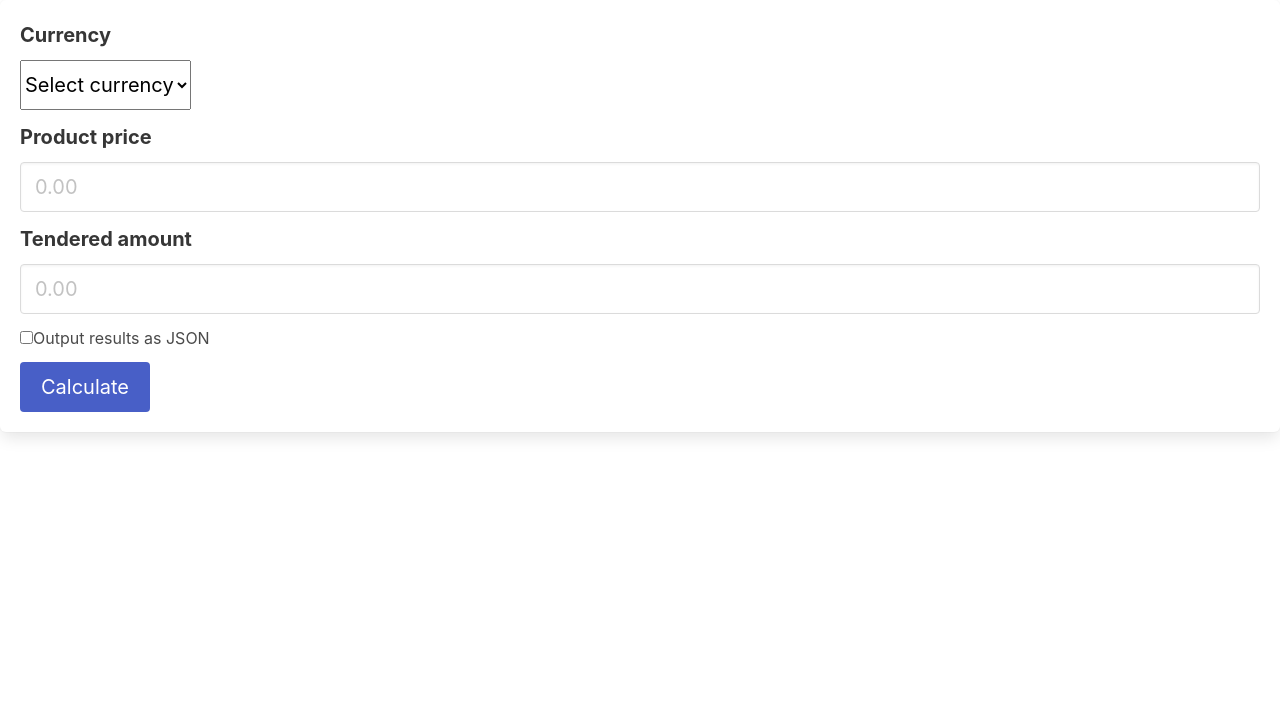
Test: Calculator › Integration tests › displays the correct results
Select "GBP" in the dropdown with test id "currency-select" at (106, 85), box x1=20 y1=60 x2=191 y2=110
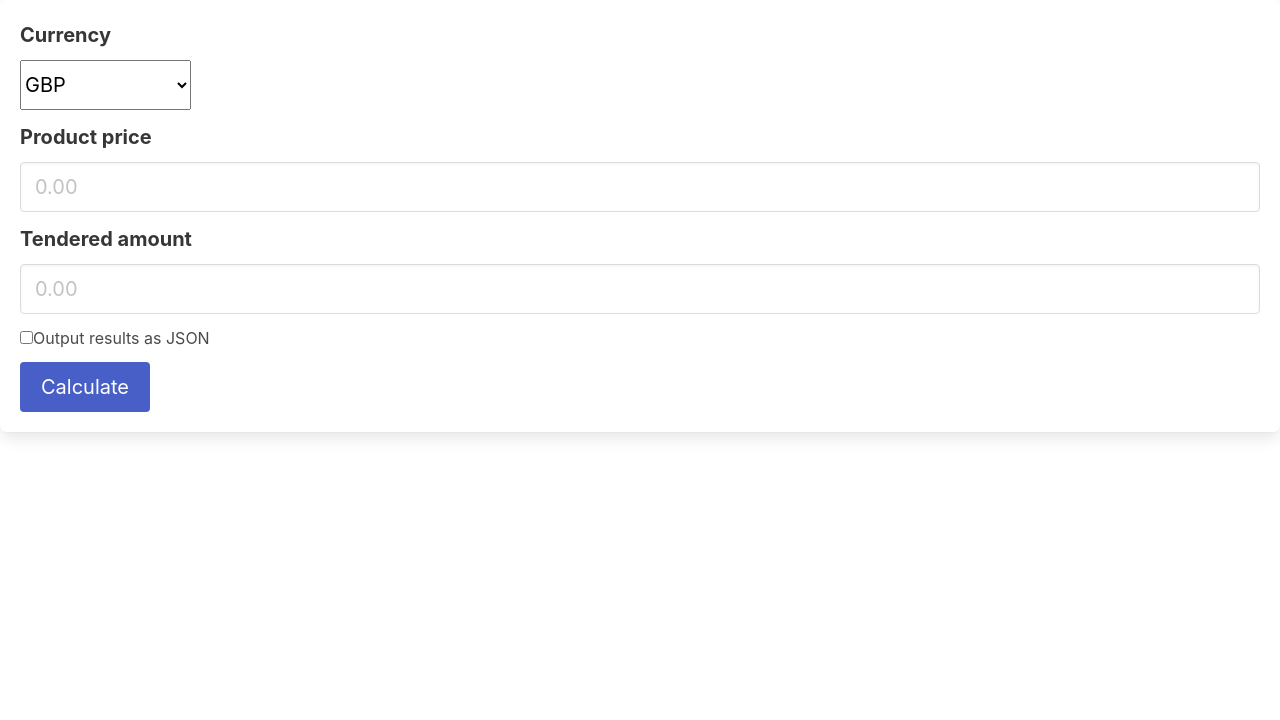
Type "11.99" into the field with test id "price-input" at (640, 187), box x1=20 y1=162 x2=1260 y2=212
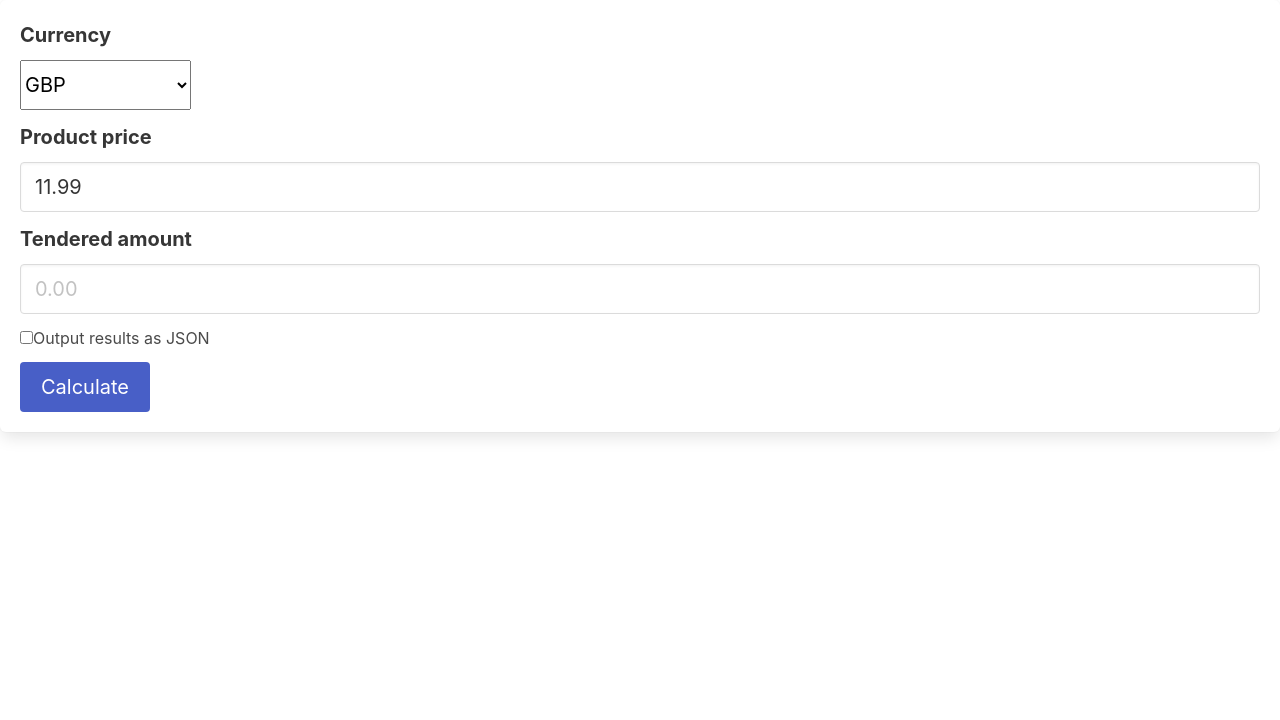
Type "20.00" into the field with test id "tendered-input" at (640, 289), box x1=20 y1=264 x2=1260 y2=314
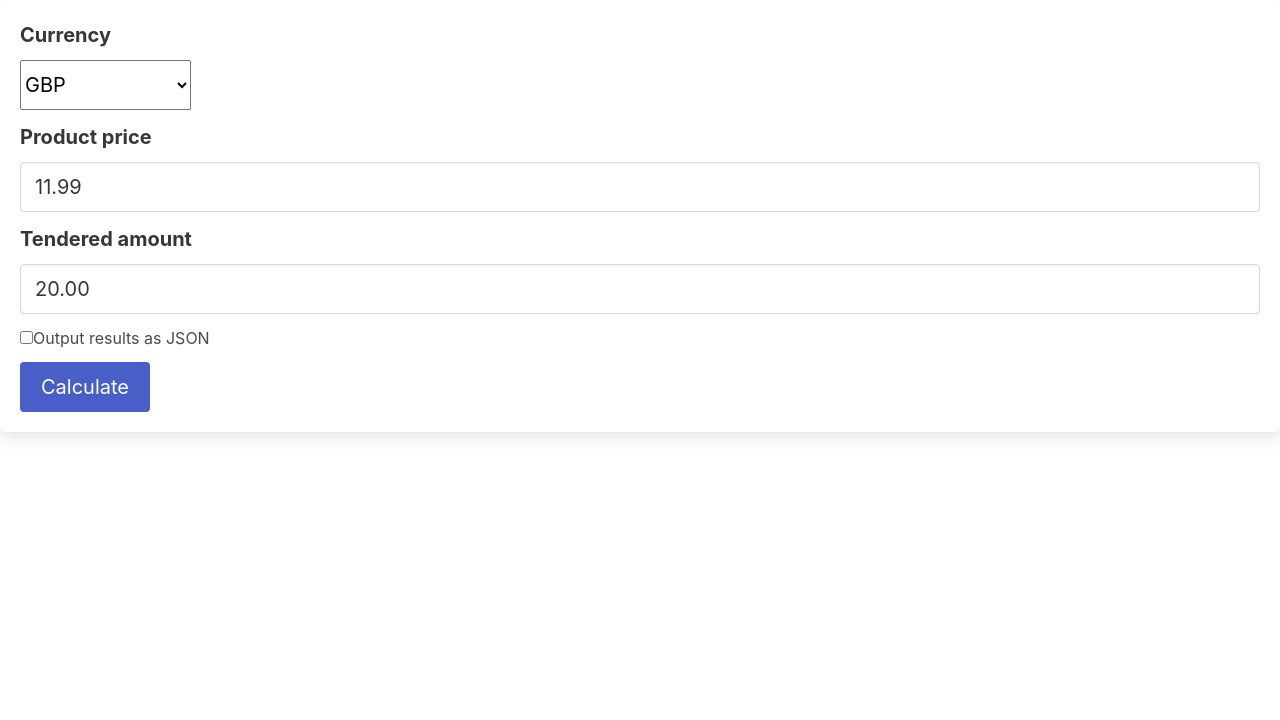
Click the button with test id "submit-button" at (85, 387), box x1=20 y1=362 x2=150 y2=412
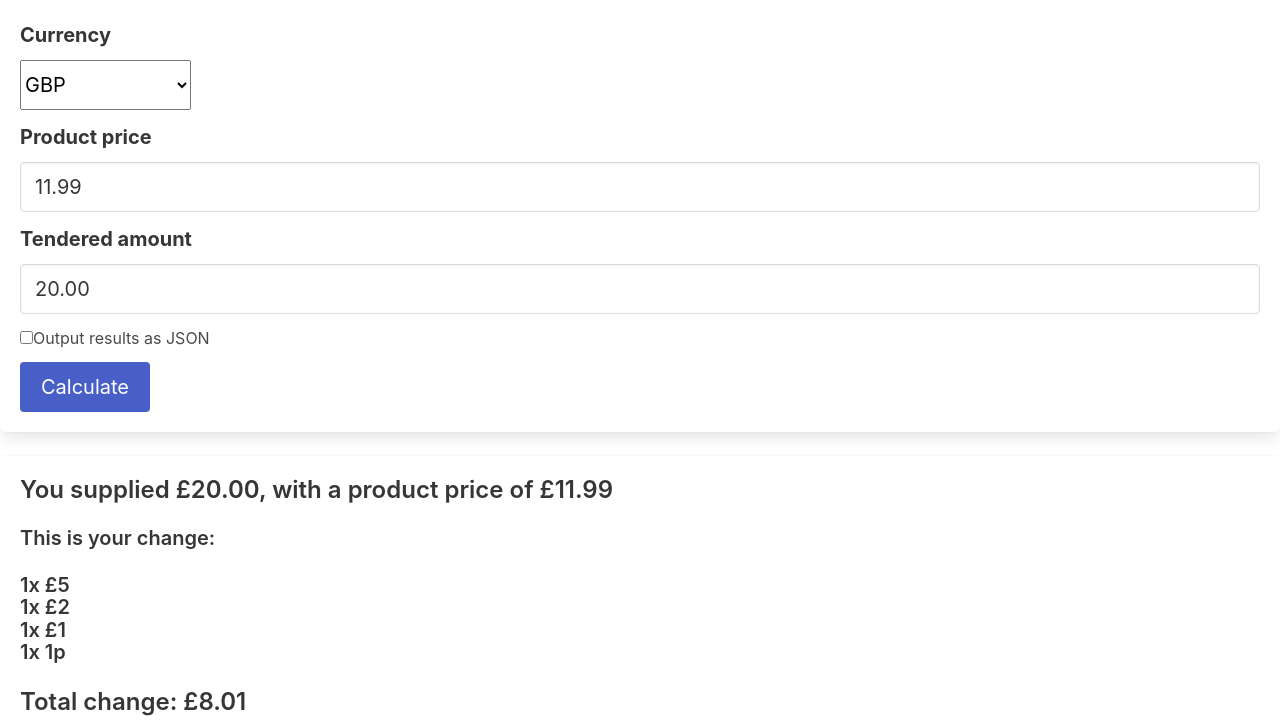
expect the number of list items with test id "result-item" is 4: met, box x1=20 y1=572 x2=70 y2=596; x1=20 y1=595 x2=70 y2=619; x1=20 y1=618 x2=66 y2=642; x1=20 y1=640 x2=66 y2=664
